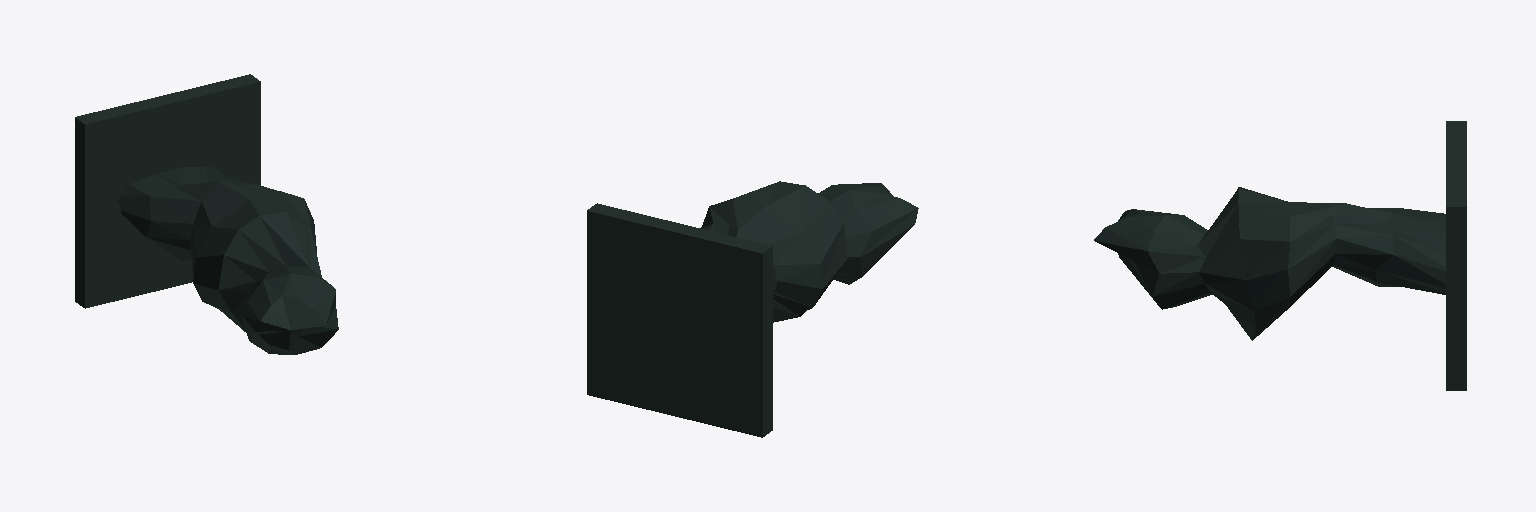
Rendered from artefact.obj.
3 views of the same model, side by side, from view 1: azimuth 30°, elevation 25°; view 2: azimuth 150°, elevation 25°; view 3: azimuth 270°, elevation 25° (orthographic).
Visible parts, largest first — view 1: Cube; view 2: Cube; view 3: Cube.
Boxes of the visible parts, box(x1,y1,x2,y2) form: Cube: box(75, 74, 338, 354); Cube: box(587, 181, 918, 437); Cube: box(1094, 121, 1466, 390).
Bounding box in the file's own units: 0.1 × 0.1 × 0.1835.